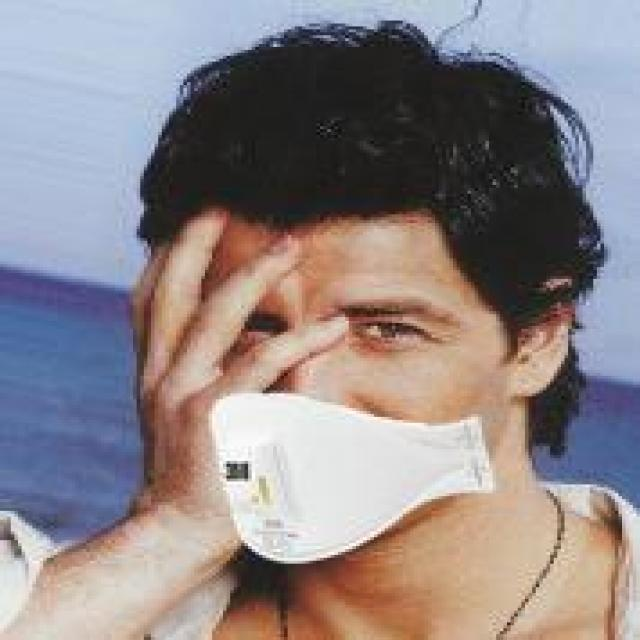mask: (125, 59, 608, 564)
